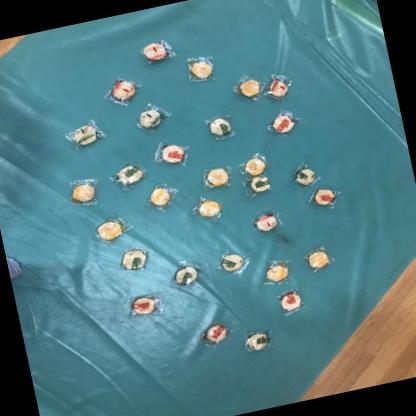green_setoshio: (130, 100, 174, 135), (64, 117, 106, 151), (110, 157, 152, 190), (166, 257, 208, 290), (216, 244, 254, 280), (288, 158, 324, 192), (116, 244, 154, 276), (238, 325, 275, 355), (240, 171, 278, 200), (203, 111, 237, 143)
red_setoshio: (148, 134, 193, 172), (132, 33, 176, 69), (102, 72, 143, 108), (302, 180, 346, 213), (270, 284, 310, 318), (262, 107, 302, 140), (196, 318, 234, 349), (125, 289, 162, 318), (264, 69, 296, 102), (249, 208, 284, 236)
yellow_setoshio: (88, 212, 133, 247), (189, 191, 231, 226), (228, 69, 267, 105), (142, 180, 182, 214), (258, 254, 296, 288), (300, 242, 338, 275), (182, 51, 218, 85), (68, 176, 104, 209), (238, 148, 274, 180), (199, 161, 234, 191)
